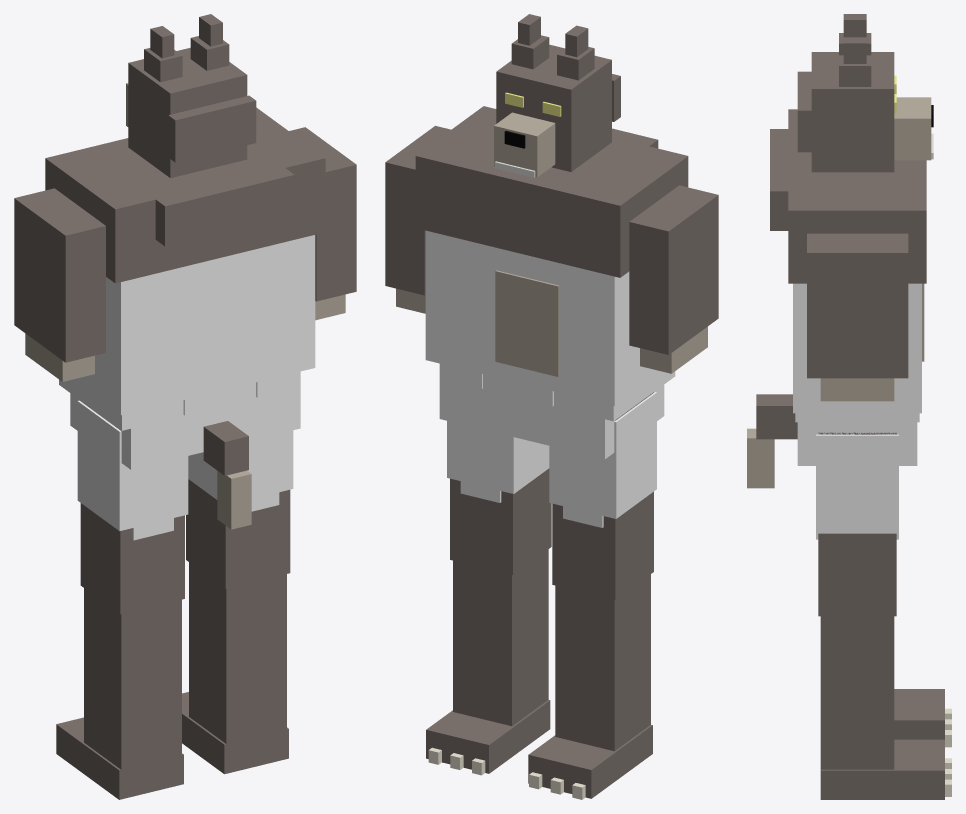
The model's file is WEREWOLF.gltf.
The picture shows the model from 3 angles, left to right: view 1: azimuth 30°, elevation 25°; view 2: azimuth 150°, elevation 25°; view 3: azimuth 270°, elevation 25°; orthographic projection. The views are drawn at different scales.
Visible parts, largest first — view 1: WEREWOLF; view 2: WEREWOLF; view 3: WEREWOLF.
Boxes of the visible parts, bbox=[...] form: WEREWOLF: bbox=[14, 14, 356, 799]; WEREWOLF: bbox=[385, 14, 718, 799]; WEREWOLF: bbox=[747, 14, 951, 799].
Size of the model in its own units: 0.72 by 1.75 by 0.445.
